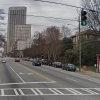Crosswalk: (5, 80, 100, 100)
